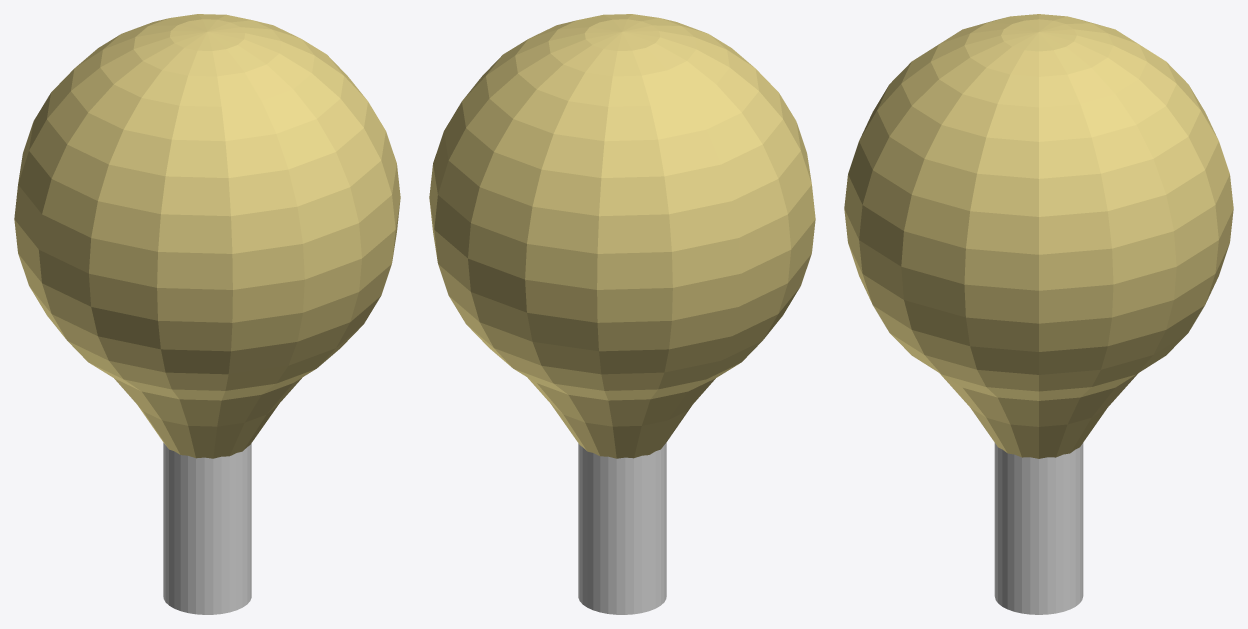
File: Bulb.fbx
The picture shows the model from 3 angles, left to right: view 1: azimuth 30°, elevation 25°; view 2: azimuth 150°, elevation 25°; view 3: azimuth 270°, elevation 25°; orthographic projection.
Visible parts, largest first — view 1: Sphere, Cylinder; view 2: Sphere, Cylinder; view 3: Sphere, Cylinder.
Part boxes in pixels (<box>): Sphere: <box>14,14,400,458</box>; Cylinder: <box>163,442,251,614</box>; Sphere: <box>429,14,815,458</box>; Cylinder: <box>578,442,666,614</box>; Sphere: <box>844,14,1233,458</box>; Cylinder: <box>994,443,1083,614</box>.
Size of the model in its own units: 158 by 252 by 158.
